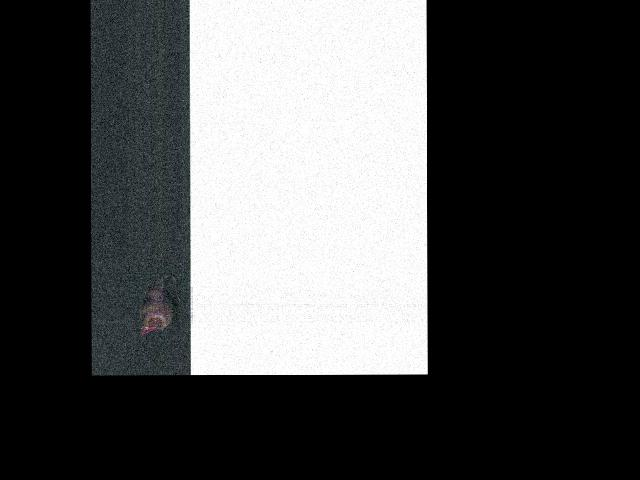beet: (139, 274, 180, 337)
